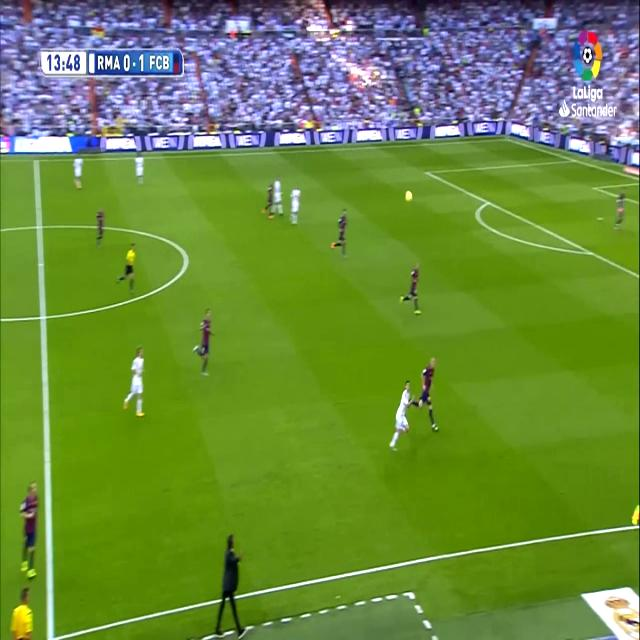bigarea_top_inner: (424, 165, 431, 179)
halfcircle_bottom: (34, 298, 52, 335)
halfcircle_top: (32, 212, 47, 242)
midline_bottom_intersection: (41, 612, 61, 640)
top_arc_area_intersection: (483, 193, 492, 210)
